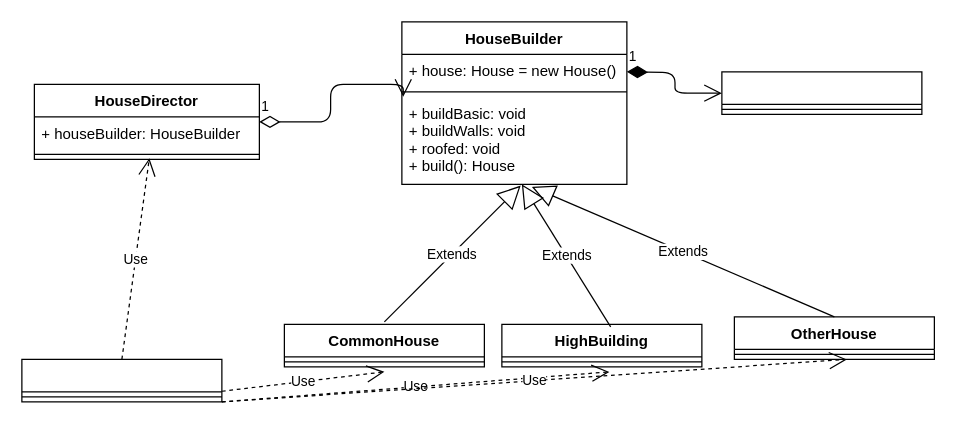
Some shapes in this 956 by 441 pixel diagram are drawn without their labels. Each missing label, with the centre of its shape:
Client: (x=121, y=380)
House: (x=821, y=92)
